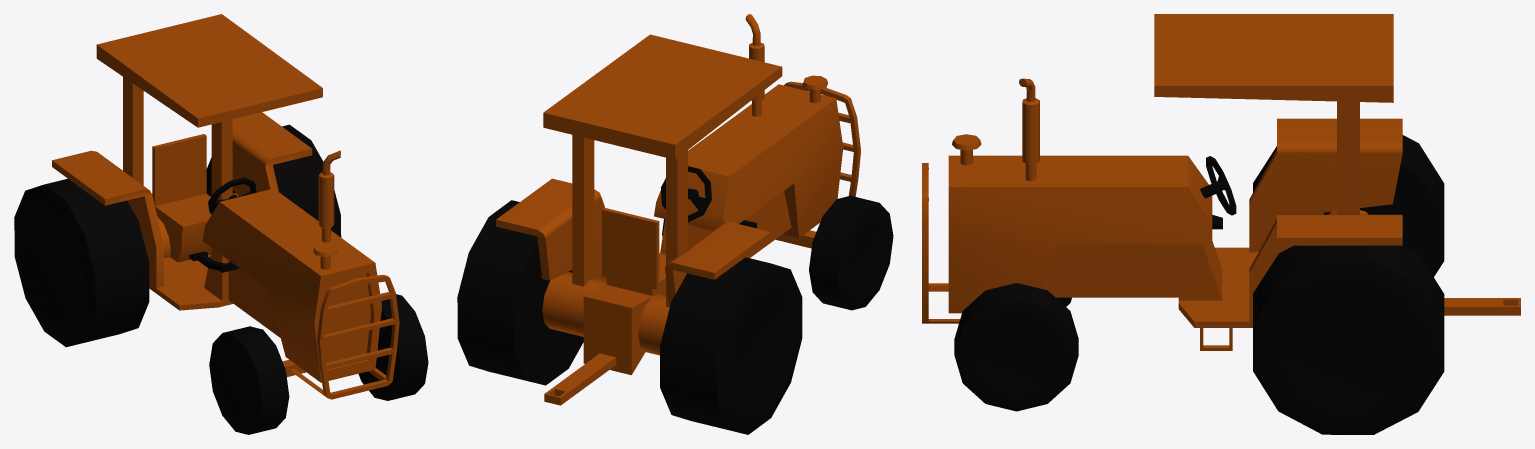
File: tractor.glb
3 renders of one model, left to right at view 1: azimuth 30°, elevation 25°; view 2: azimuth 150°, elevation 25°; view 3: azimuth 270°, elevation 25°, orthographic. The views are drawn at different scales.
Visible parts, largest first — view 1: tractor_body, backwheels, front_r_wheel, front_l_wheel, wheel, pedal; view 2: tractor_body, backwheels, front_r_wheel, wheel; view 3: tractor_body, backwheels, front_l_wheel, wheel.
Part boxes in pixels (x1=…): tractor_body: x1=52, y1=14, x2=399, y2=399; backwheels: x1=14, y1=124, x2=341, y2=347; front_r_wheel: x1=209, y1=326, x2=289, y2=434; front_l_wheel: x1=358, y1=294, x2=428, y2=400; wheel: x1=208, y1=177, x2=256, y2=214; pedal: x1=189, y1=251, x2=239, y2=272; tractor_body: x1=496, y1=14, x2=860, y2=405; backwheels: x1=457, y1=200, x2=802, y2=434; front_r_wheel: x1=809, y1=195, x2=893, y2=310; wheel: x1=660, y1=166, x2=711, y2=221; tractor_body: x1=922, y1=14, x2=1520, y2=350; backwheels: x1=1253, y1=135, x2=1444, y2=434; front_l_wheel: x1=954, y1=283, x2=1078, y2=411; wheel: x1=1200, y1=156, x2=1236, y2=215.
Size of the model in its own units: 3.54 by 3.56 by 6.15.
